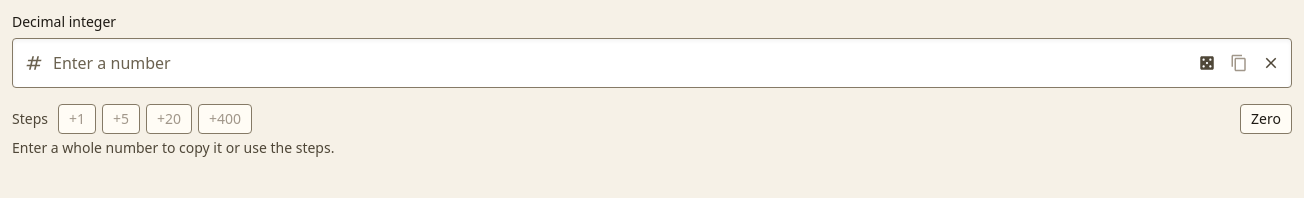
Test: NumberInput › flags a negative value without dropping the minus sign
Step 1. Type "-3" into the field labelled "Decimal integer" → (652, 63), box top-left (12, 38), bottom-right (1292, 88)
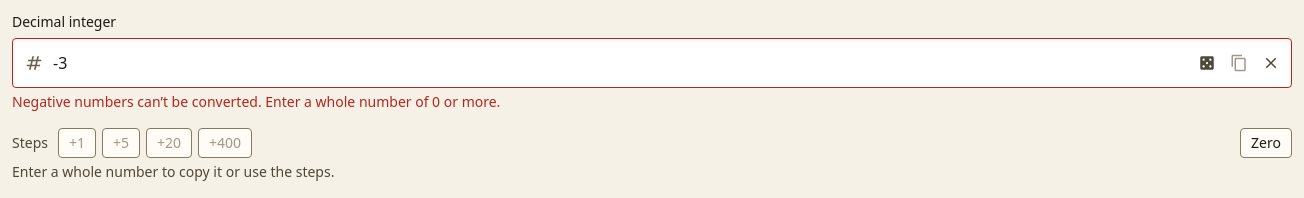
Result: the text with id "number-input-error" shows "Negative numbers" at top-left (12, 92), bottom-right (500, 111)
